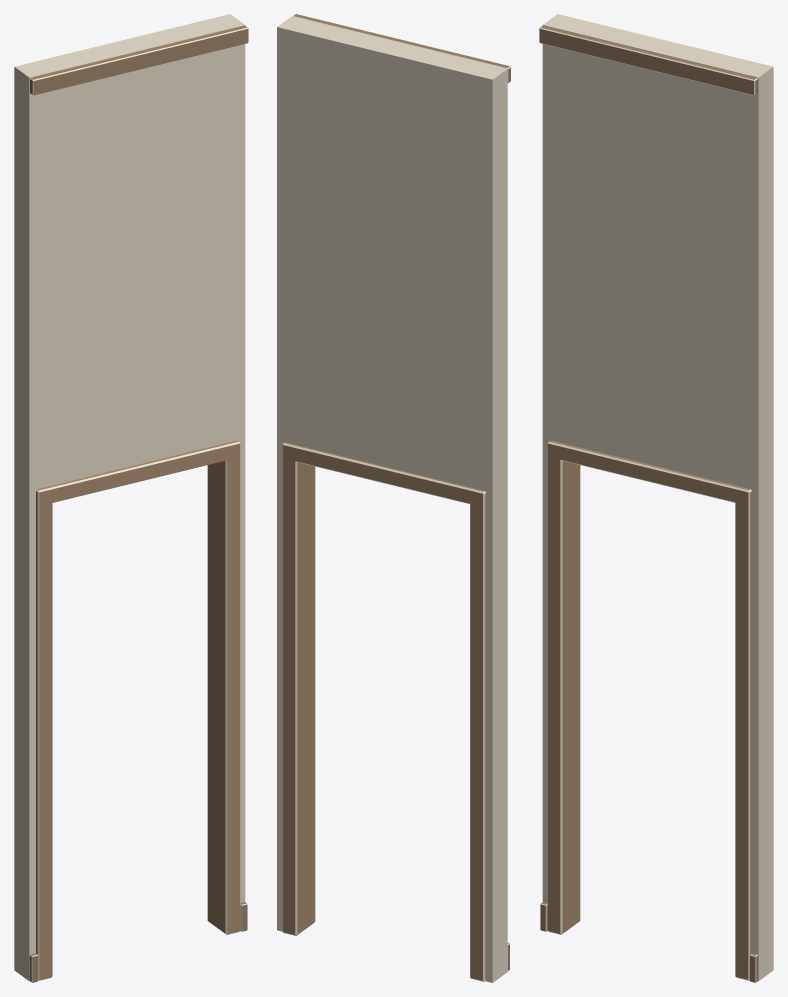
The model's file is muro_puerta_400.glb.
3 views of the same model, side by side, from view 1: azimuth 30°, elevation 25°; view 2: azimuth 150°, elevation 25°; view 3: azimuth 330°, elevation 25° (orthographic).
Visible parts, largest first — view 1: muro_puerta_400; view 2: muro_puerta_400; view 3: muro_puerta_400.
Boxes of the visible parts, x1,y1,x2,y2 form: muro_puerta_400: (14, 14, 248, 982); muro_puerta_400: (277, 14, 510, 982); muro_puerta_400: (539, 14, 773, 982).
Size of the model in its own units: 1 by 4 by 0.165.
